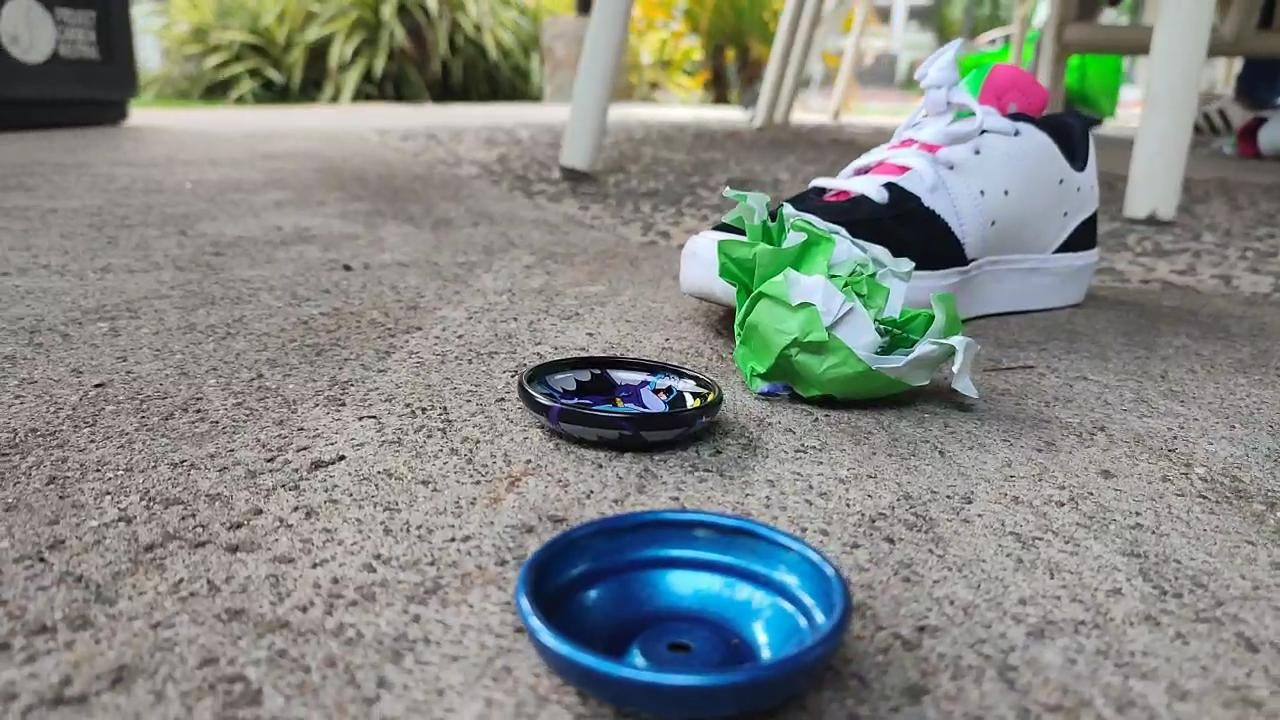paper: (681, 188, 977, 402)
